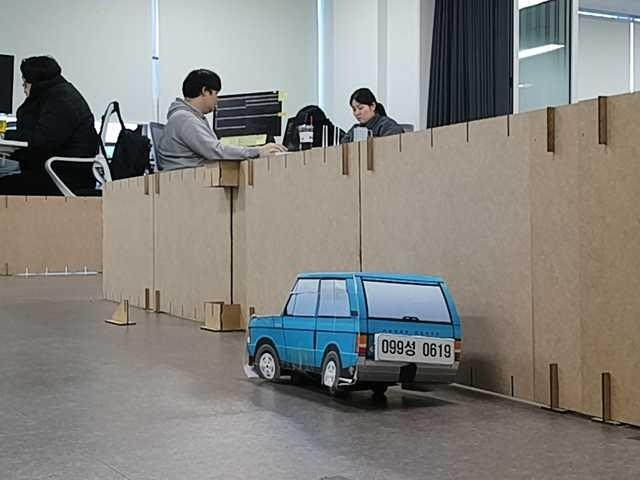car: (246, 269, 462, 399)
id: (374, 332, 454, 364)
